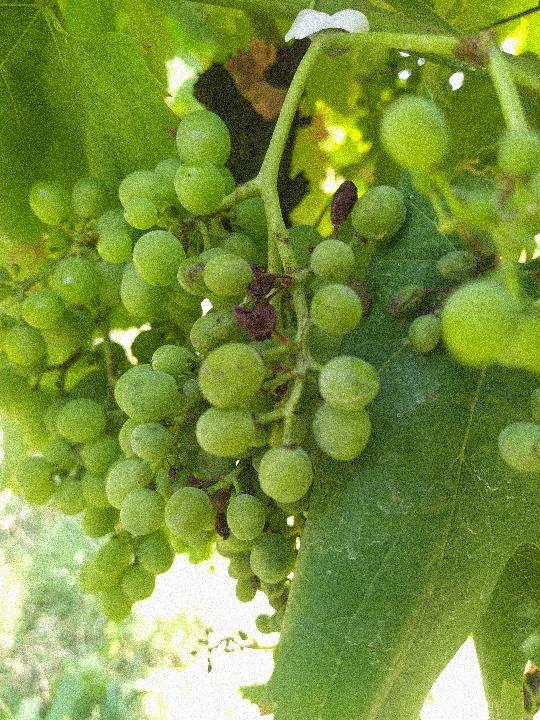grape: (116, 105, 416, 585)
